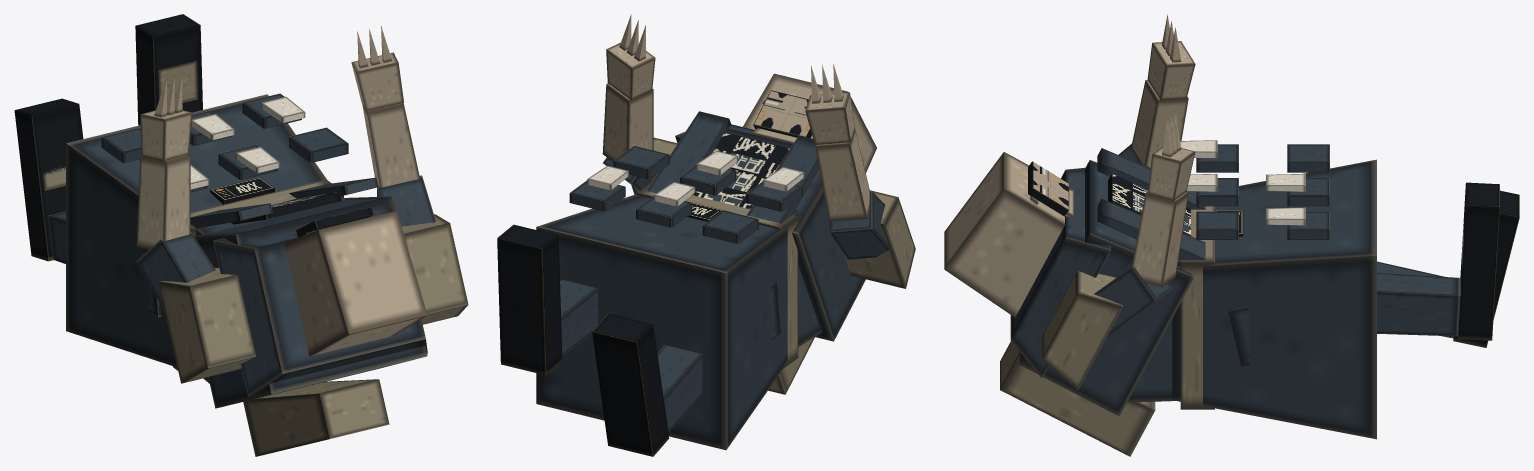
The model's file is consenth_attack.obj.
The picture shows the model from 3 angles, left to right: view 1: azimuth 30°, elevation 25°; view 2: azimuth 150°, elevation 25°; view 3: azimuth 270°, elevation 25°; orthographic projection. The views are drawn at different scales.
Parts seen in each view (by area): view 1: consenth_attack; view 2: consenth_attack; view 3: consenth_attack.
Part boxes in pixels (x1,y1,x2,y2): consenth_attack: (14, 14, 468, 456); consenth_attack: (497, 14, 915, 456); consenth_attack: (944, 14, 1519, 456).
Size of the model in its own units: 0.5876 by 0.7515 by 1.05.
1 material, 1 textured.
